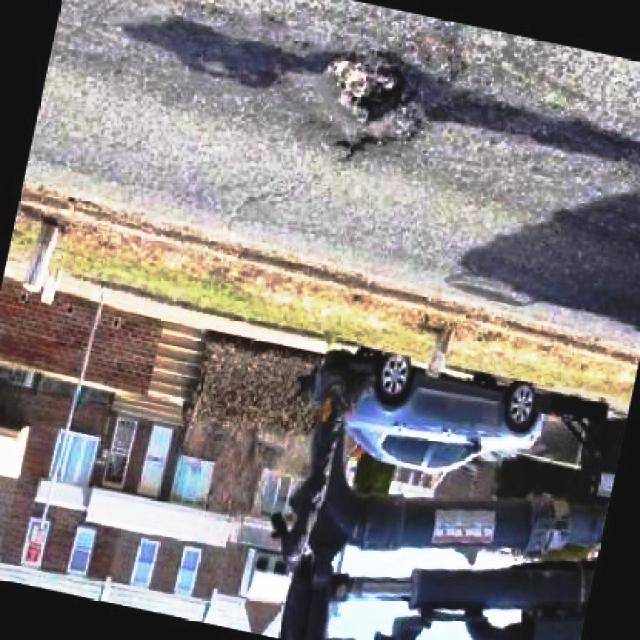pothole: (329, 35, 426, 160)
